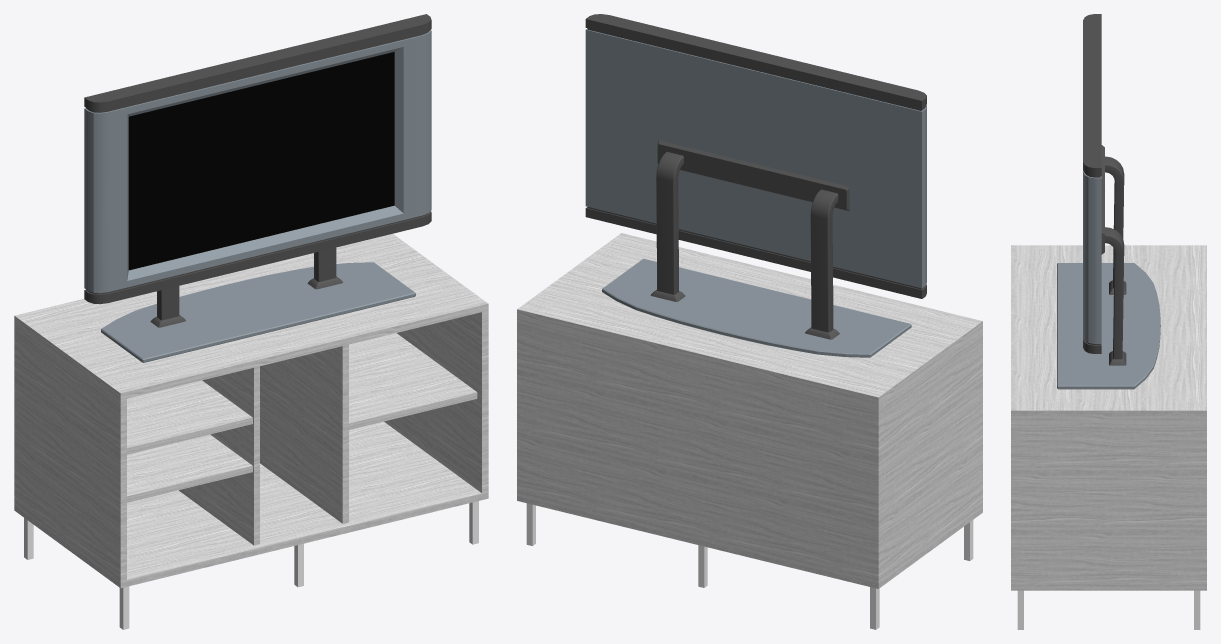
Rendered from tv_set.glb.
3 views of the same model, side by side, from view 1: azimuth 30°, elevation 25°; view 2: azimuth 150°, elevation 25°; view 3: azimuth 270°, elevation 25° (orthographic). The views are drawn at different scales.
Parts seen in each view (by area): view 1: tv_stand_206, television_5, television_stand_5; view 2: tv_stand_206, television_5, television_stand_5; view 3: tv_stand_206, television_stand_5, television_5.
Boxes of the visible parts, bbox=[...] form: tv_stand_206: bbox=[14, 233, 488, 629]; television_5: bbox=[84, 14, 431, 304]; television_stand_5: bbox=[101, 247, 415, 362]; tv_stand_206: bbox=[517, 233, 982, 629]; television_5: bbox=[585, 14, 926, 298]; television_stand_5: bbox=[602, 140, 911, 357]; tv_stand_206: bbox=[1011, 245, 1206, 629]; television_stand_5: bbox=[1057, 145, 1160, 389]; television_5: bbox=[1083, 14, 1101, 353].
Size of what is drawn, in the model's own units: 1.2 by 1.55 by 0.6.
Materials: 7 (2 with a texture image).
